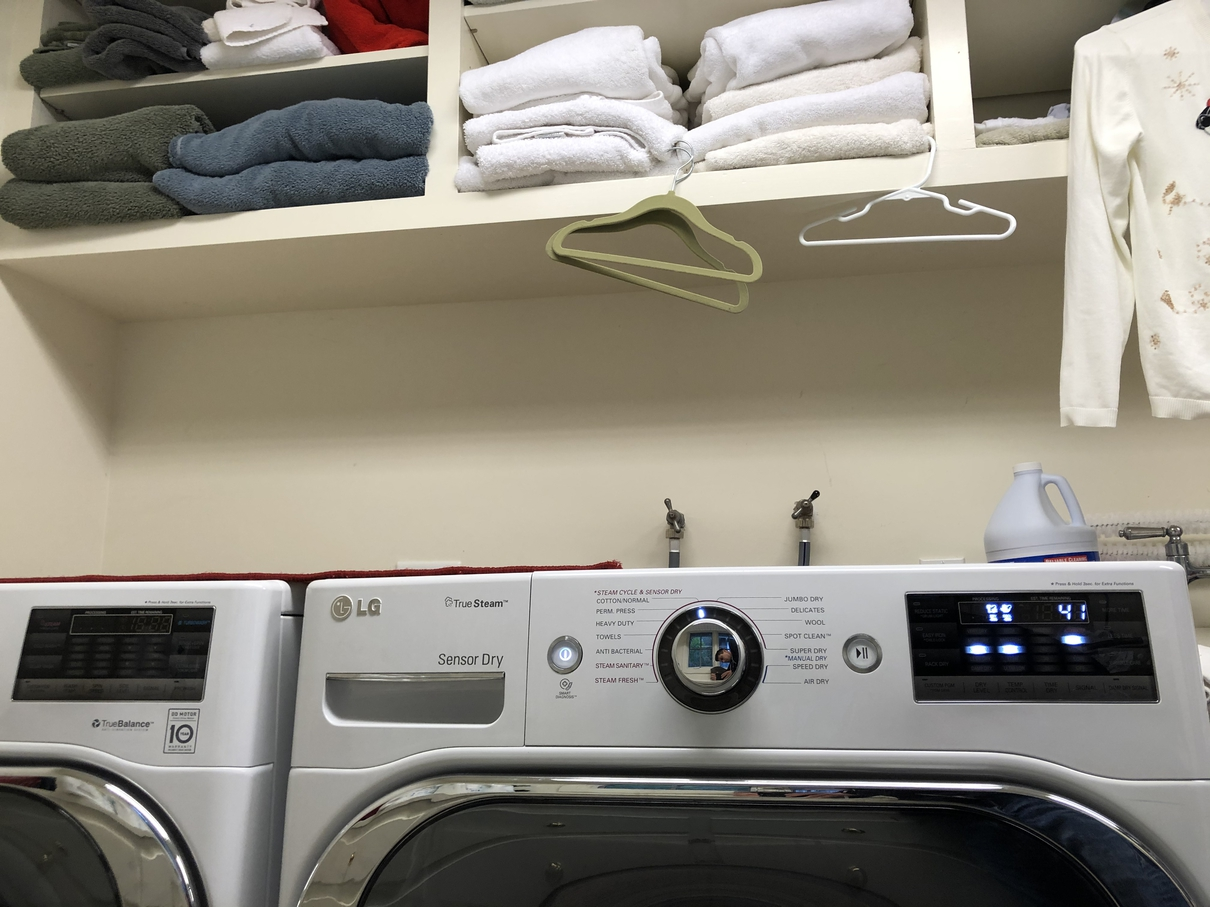status: (947, 592, 1093, 631)
